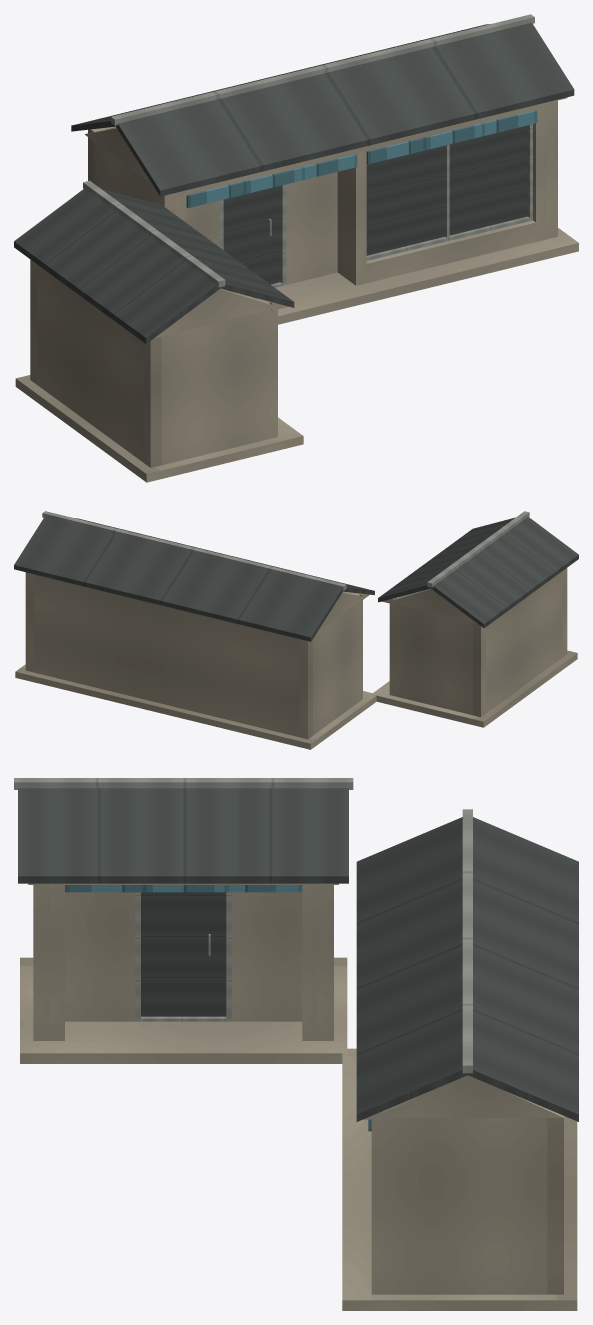
Rendered from shanghai.glb.
The picture shows the model from 3 angles, top to bottom: view 1: azimuth 30°, elevation 25°; view 2: azimuth 150°, elevation 25°; view 3: azimuth 270°, elevation 25°; orthographic projection. The views are drawn at different scales.
Visible parts, largest first — view 1: shanghai; view 2: shanghai; view 3: shanghai.
Part boxes in pixels (left/top/right/bottom): shanghai: left=14, top=14, right=578, bottom=482; shanghai: left=14, top=511, right=578, bottom=749; shanghai: left=14, top=778, right=578, bottom=1310.
Size of the model in its own units: 8.6 by 2.87 by 5.94.
Materials: 1 (1 with a texture image).
